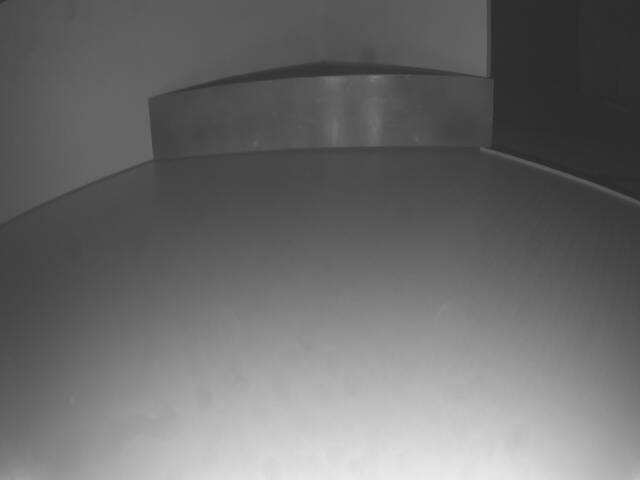Green: (150, 73, 491, 161)
